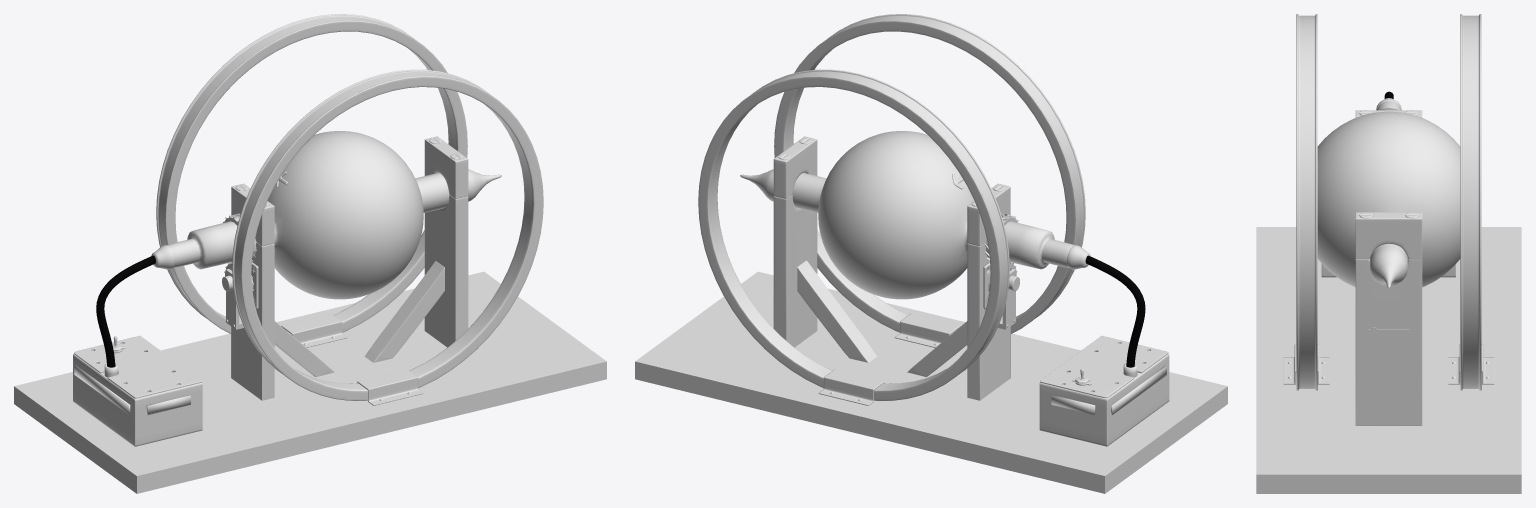
Rendered from CR_All_M.fbx.
3 renders of one model, left to right at view 1: azimuth 30°, elevation 25°; view 2: azimuth 150°, elevation 25°; view 3: azimuth 270°, elevation 25°, orthographic. The views are drawn at different scales.
Parts seen in each view (by area): view 1: estático, aros, vidro.001, suporte_madeira1, caixa, dinâmico; view 2: estático, aros, vidro.001, suporte_madeira1, caixa, dinâmico; view 3: estático, vidro.001, aros, suporte_madeira1, placa_extra.
Part boxes in pixels (x1,y1,x2,y2): estático: [14, 271, 606, 493]; aros: [156, 14, 543, 405]; vidro.001: [267, 131, 501, 299]; suporte_madeira1: [231, 136, 468, 400]; caixa: [73, 255, 202, 446]; dinâmico: [151, 221, 237, 269]; estático: [635, 271, 1227, 493]; aros: [698, 14, 1085, 405]; vidro.001: [740, 131, 974, 299]; suporte_madeira1: [773, 136, 1010, 400]; caixa: [1039, 255, 1169, 446]; dinâmico: [1004, 221, 1090, 269]; estático: [1256, 227, 1521, 493]; vidro.001: [1317, 111, 1460, 288]; aros: [1283, 14, 1494, 390]; suporte_madeira1: [1355, 110, 1422, 425]; placa_extra: [1368, 327, 1409, 339].
Bounding box in the file's own units: 552 × 374 × 250.
